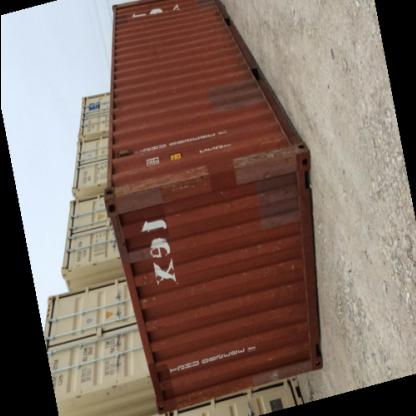Damage: (229, 144, 298, 184), (100, 175, 158, 216), (158, 168, 212, 199), (136, 295, 157, 312), (250, 241, 268, 260), (138, 272, 156, 288)
